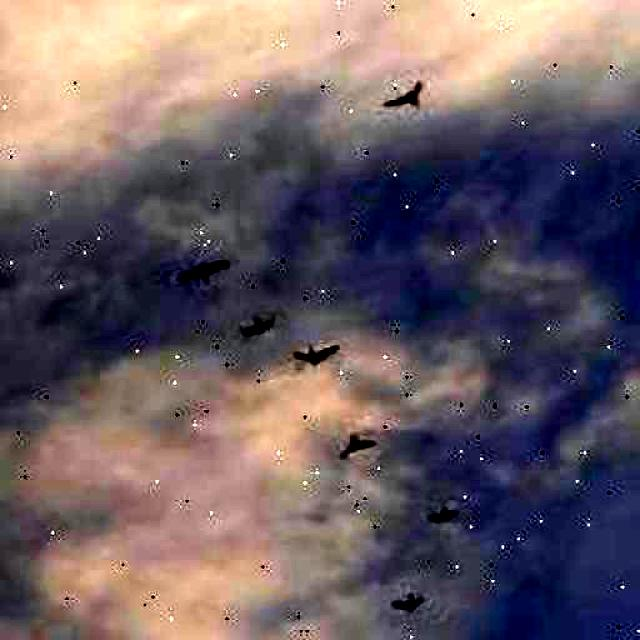airplane: (174, 254, 232, 290), (380, 80, 428, 118), (331, 426, 379, 460), (291, 339, 341, 369), (424, 499, 460, 525), (390, 589, 426, 615), (240, 312, 274, 336)
